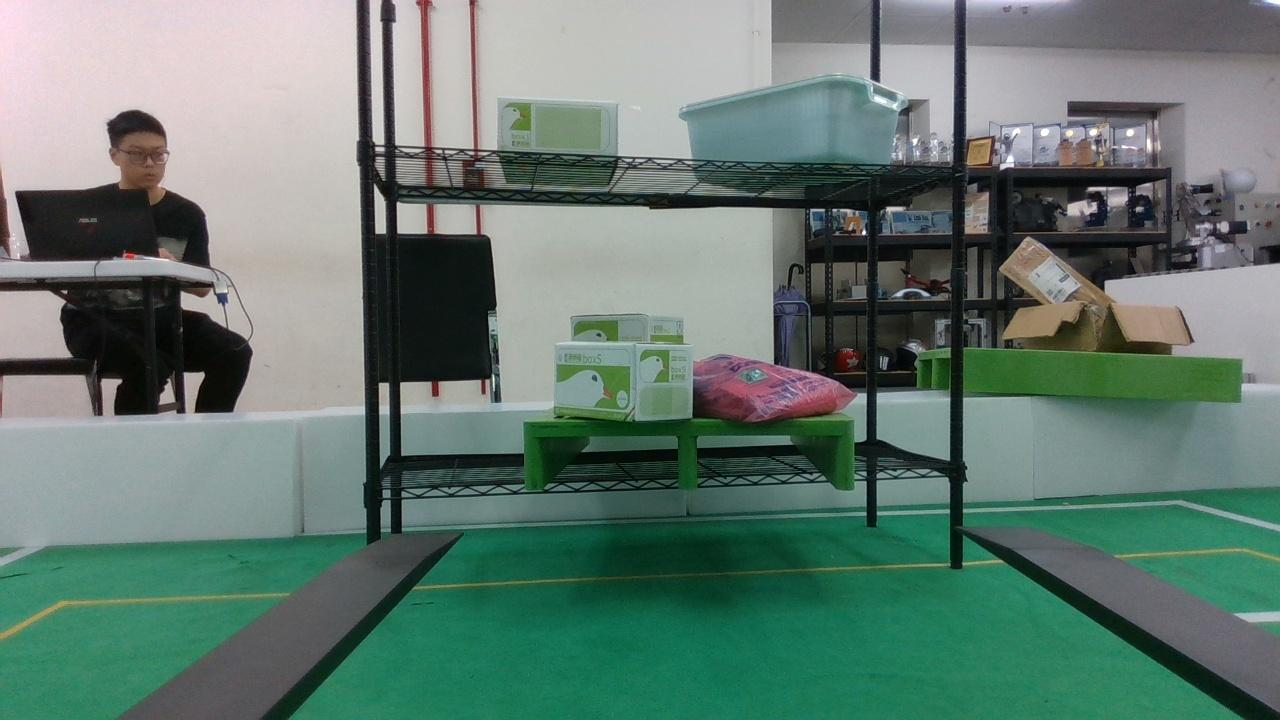Pallet: (524, 418, 855, 489)
